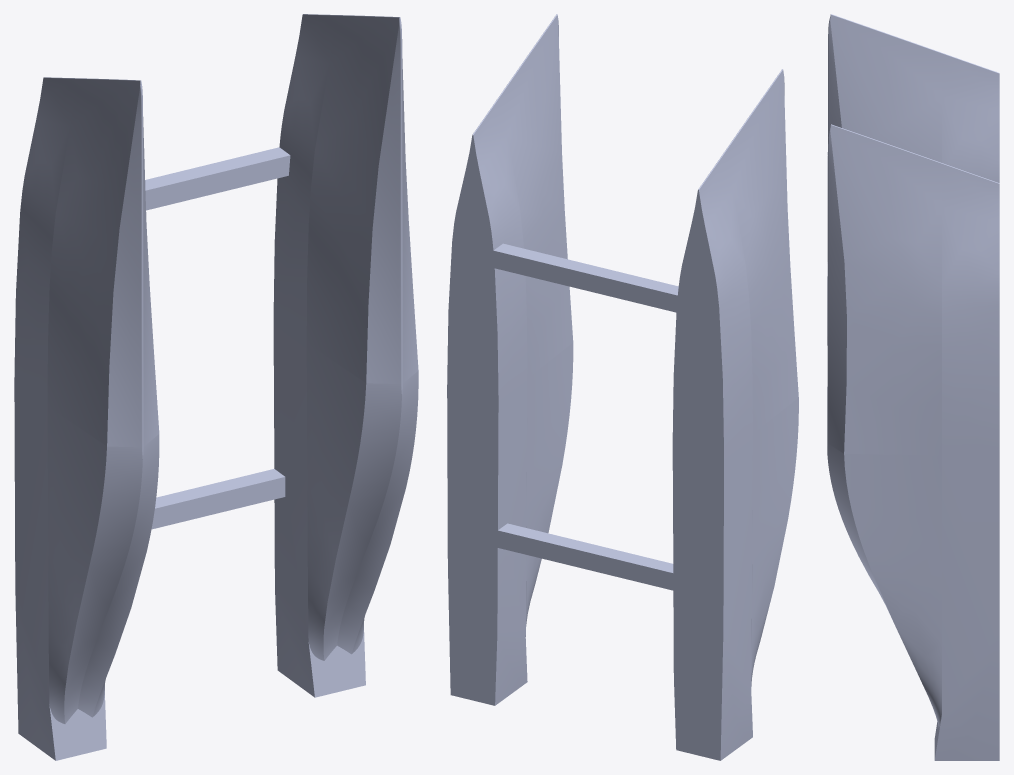
The model's file is hull_collision.glb.
3 views of the same model, side by side, from view 1: azimuth 30°, elevation 25°; view 2: azimuth 150°, elevation 25°; view 3: azimuth 270°, elevation 25° (orthographic). The views are drawn at different scales.
Parts seen in each view (by area): view 1: V-TEC S-V Hull v2; view 2: V-TEC S-V Hull v2; view 3: V-TEC S-V Hull v2.
Boxes of the visible parts, x1,y1,x2,y2 form: V-TEC S-V Hull v2: [14, 14, 418, 760]; V-TEC S-V Hull v2: [447, 14, 798, 760]; V-TEC S-V Hull v2: [827, 14, 999, 760].
Size of the model in its own units: 0.5546 by 1.2 by 0.2985.
